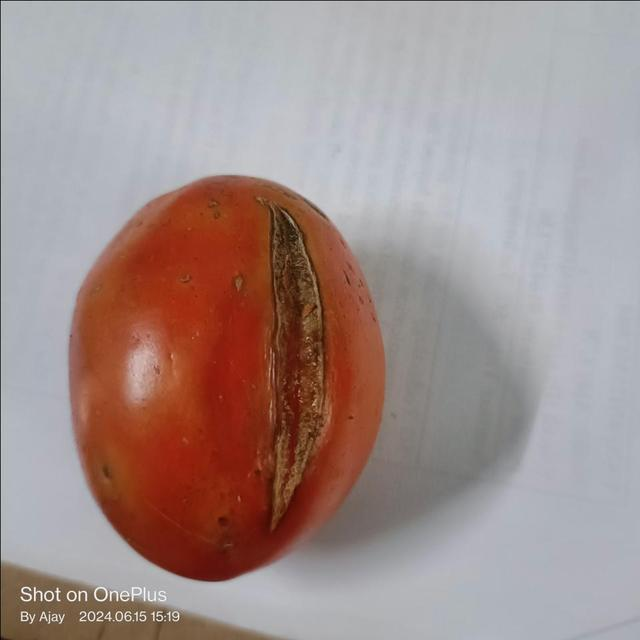Cracking Fruit: (90, 68, 271, 202)
